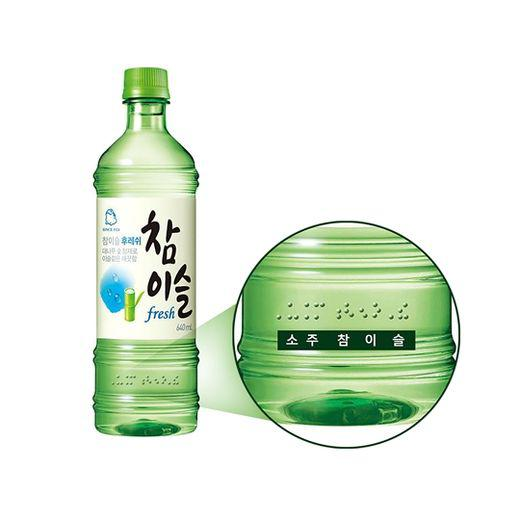soju: (89, 62, 209, 439)
